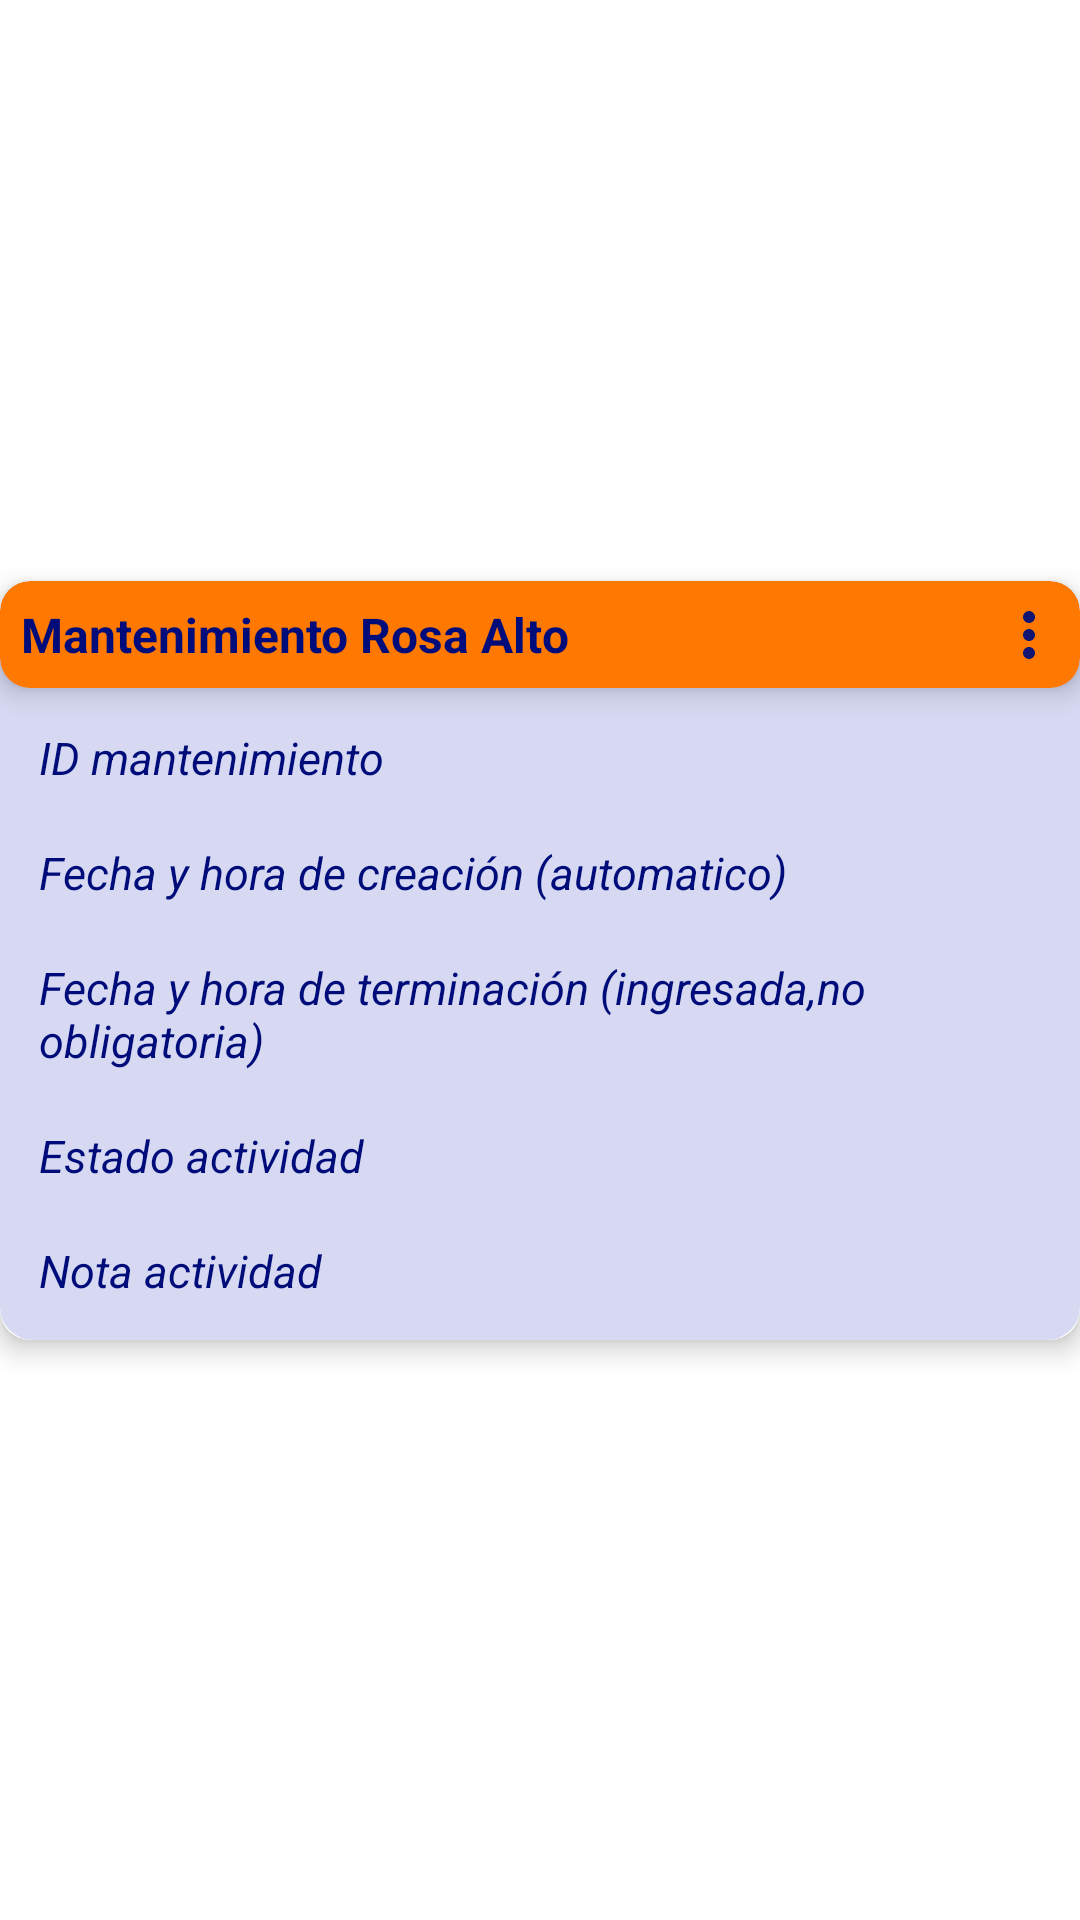

Icons on this 1080×1920 Android screen, each with its box as (x1, y1, x2, y2):
more vert: (1023, 611, 1035, 659)
